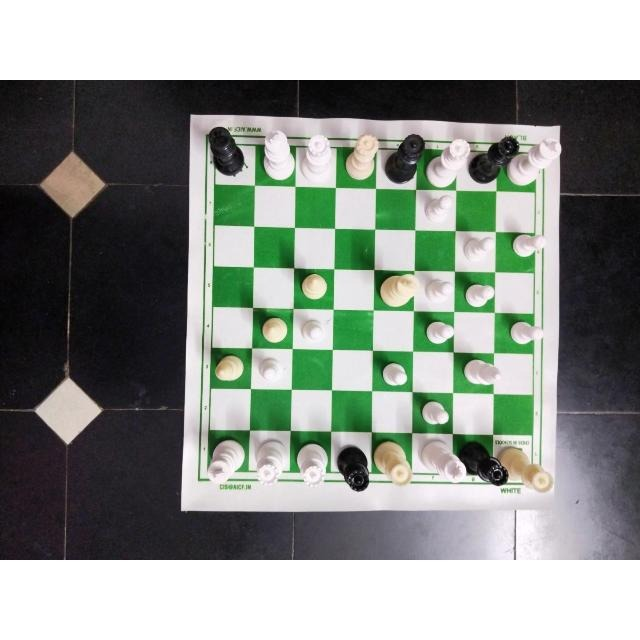black-king: (206, 125, 245, 177)
black-queen: (471, 134, 518, 184), (460, 442, 509, 487), (383, 131, 423, 183), (333, 444, 372, 492)
white-bishop: (460, 352, 504, 390), (295, 270, 331, 306), (211, 350, 246, 386), (256, 311, 291, 347)
white-king: (512, 134, 560, 188), (204, 436, 248, 486), (418, 438, 465, 482), (258, 124, 294, 181), (374, 269, 418, 310)
white-pawn: (413, 396, 452, 432), (504, 317, 546, 347), (254, 353, 288, 389), (512, 231, 550, 262), (377, 354, 409, 390), (462, 278, 497, 310), (421, 192, 452, 227), (460, 233, 495, 263), (296, 313, 327, 346), (421, 316, 455, 346), (422, 274, 454, 305)
white-queen: (503, 449, 553, 493), (426, 139, 468, 188), (373, 439, 414, 488), (344, 130, 380, 182), (252, 438, 288, 486), (299, 131, 333, 179), (294, 441, 328, 485)
